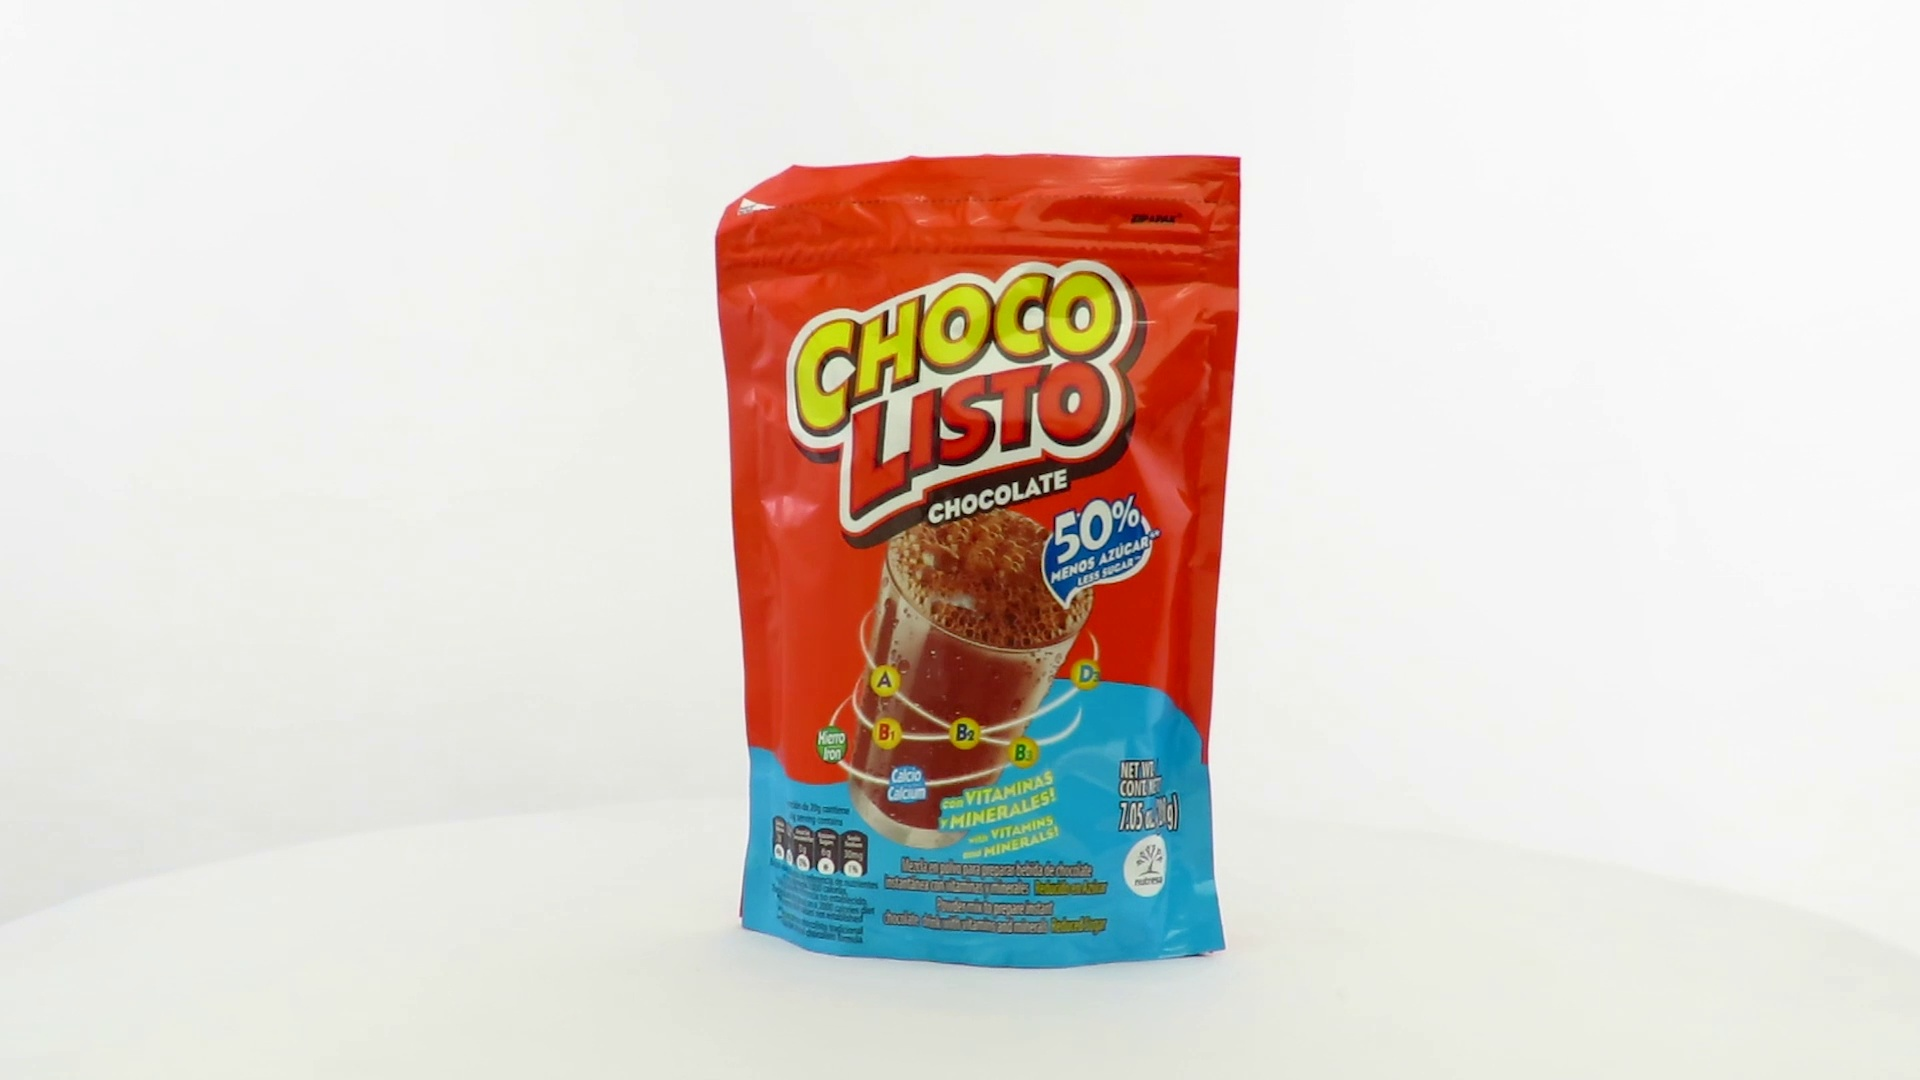COL0170104DYP20000: (709, 148, 1247, 975)
